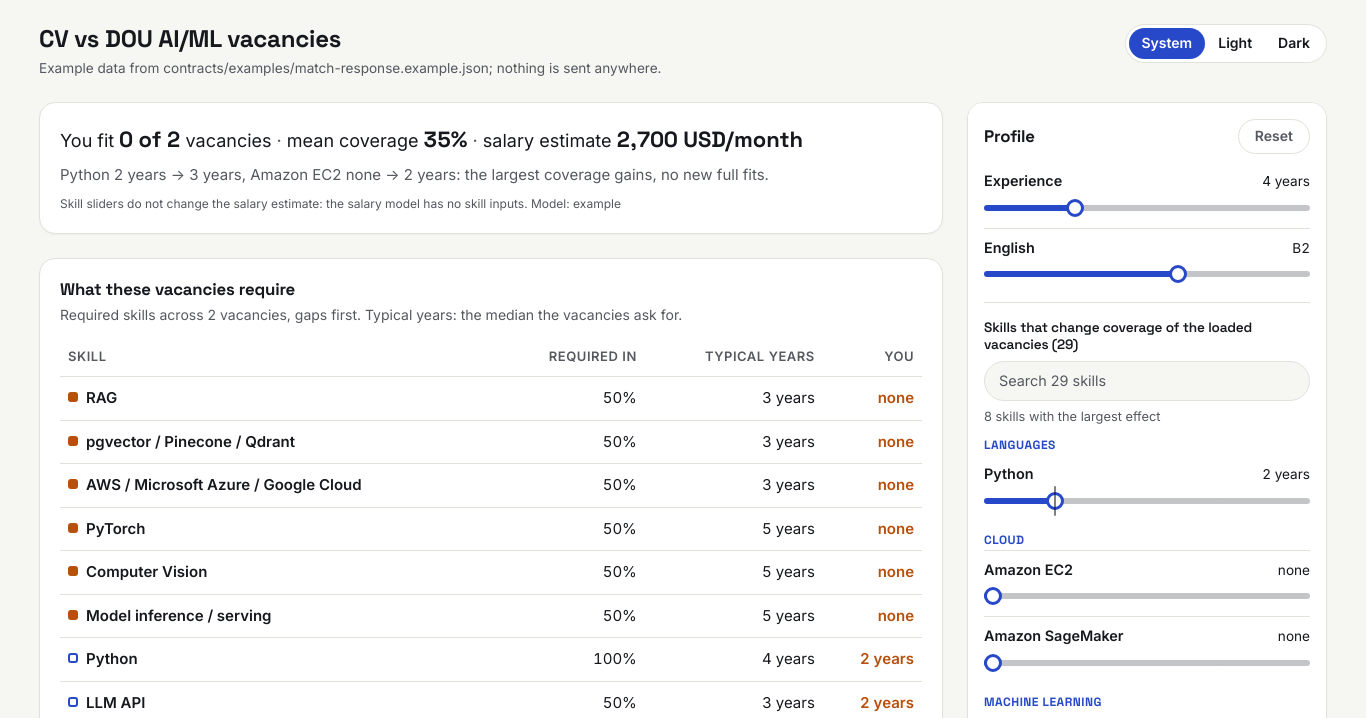
it: results screen with the example response › Reset is disabled until a slider moves; a move shows "was" and coloured deltas
The width and height of the screenshot is (1366, 718).
Expected: the button "Reset" is disabled, 1238,119 -> 1310,154
Set the slider labelled "Python" to "3" at (1085, 501), box 984,489 -> 1310,513
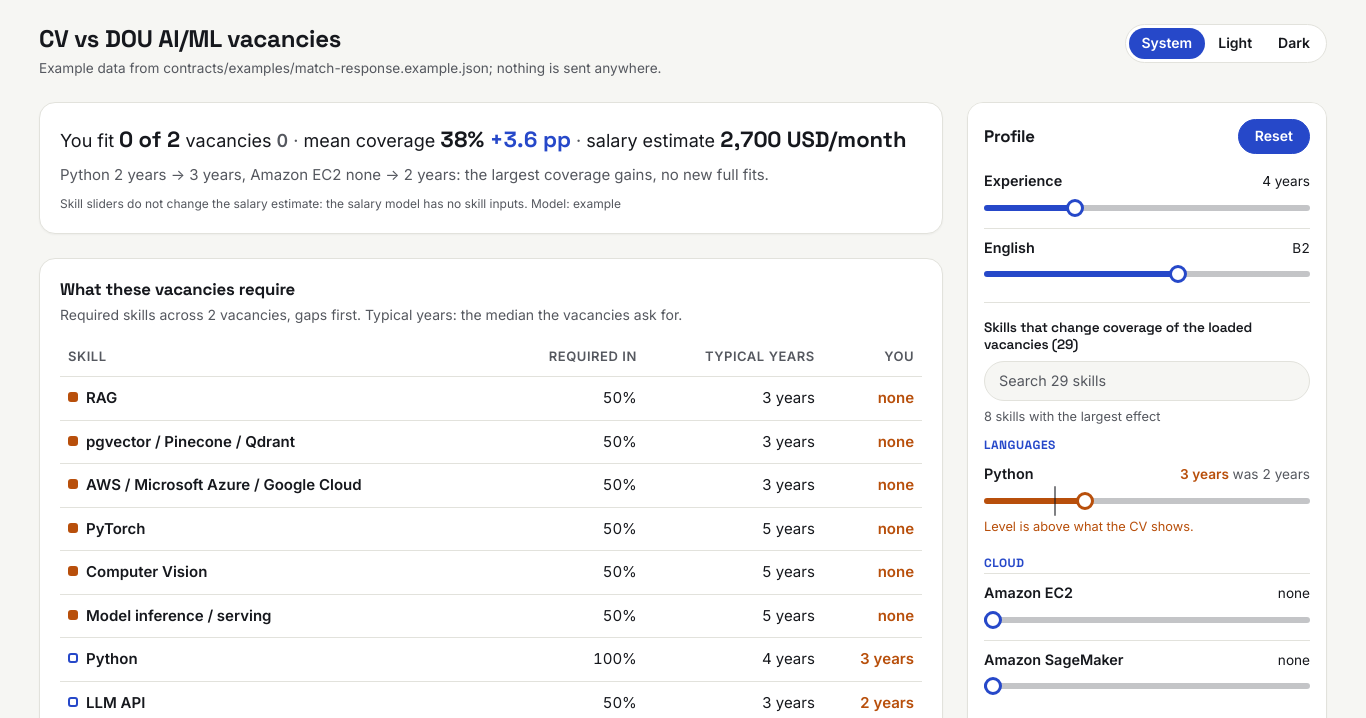
Now the button "Reset" is enabled
Now the element showing "Python 3 years was 2 years Level is above what the CV shows." is shown, box 984,455 -> 1310,544
Click the button "Reset" at (1274, 137), box 1238,119 -> 1310,154
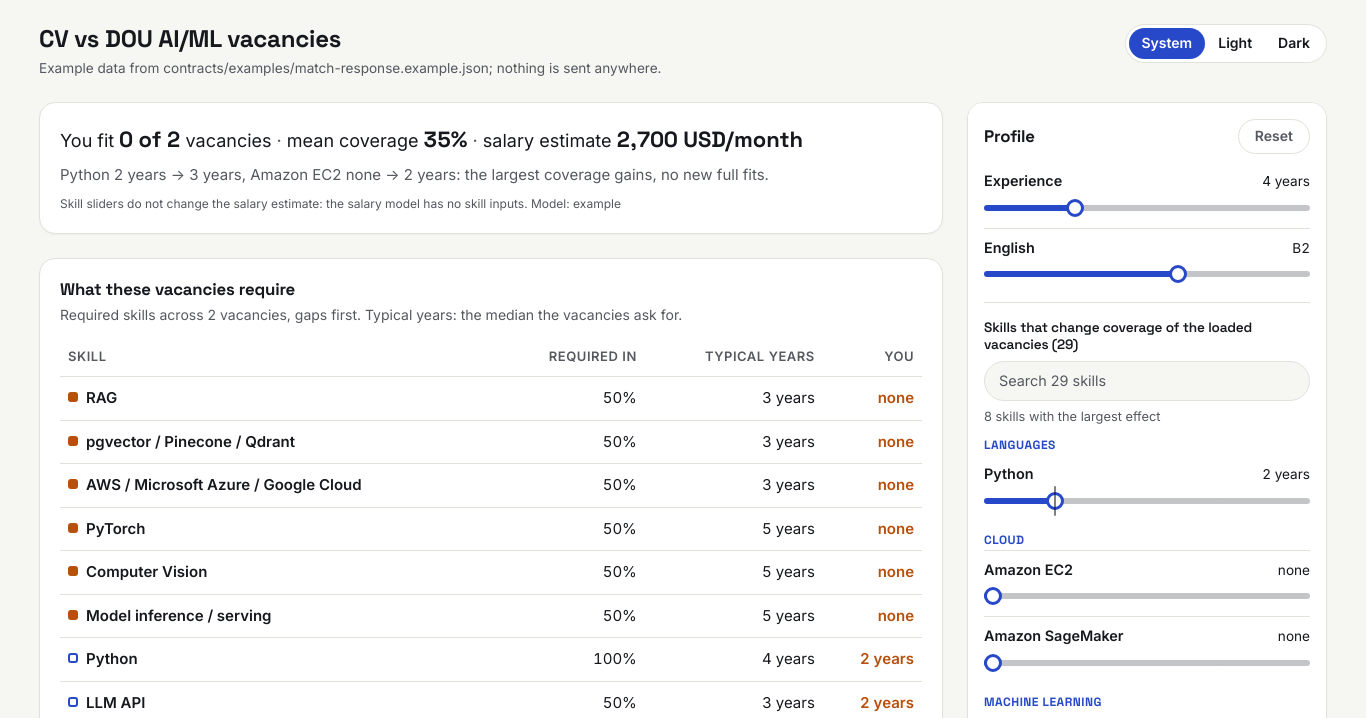
Now the button "Reset" is disabled, box 1238,119 -> 1310,154
